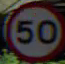Speed limit: (5, 2, 61, 54)
